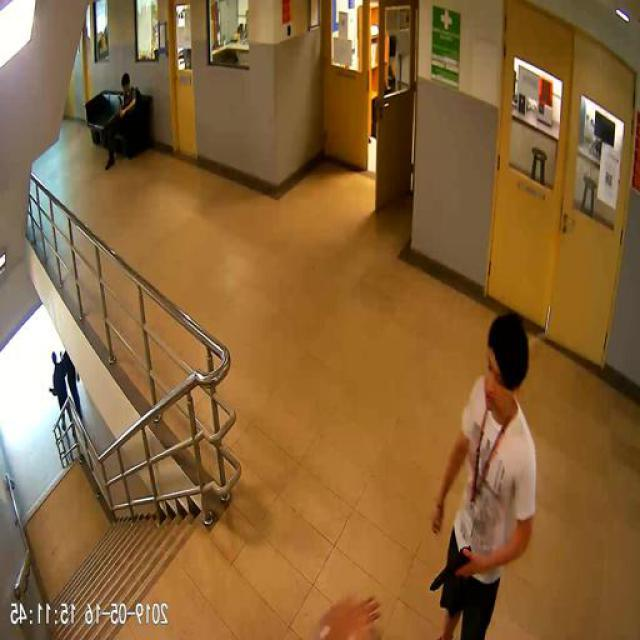Gun: (432, 542, 476, 588)
